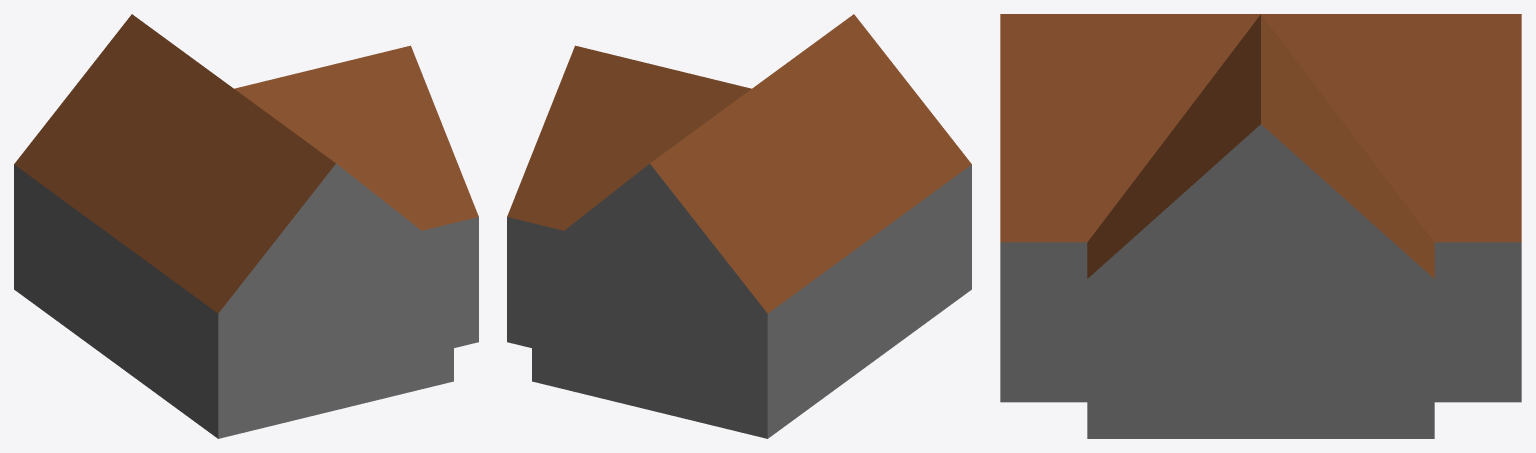
The model's file is House5.fbx.
3 views of the same model, side by side, from view 1: azimuth 30°, elevation 25°; view 2: azimuth 150°, elevation 25°; view 3: azimuth 270°, elevation 25° (orthographic). The views are drawn at different scales.
Parts seen in each view (by area): view 1: polySurface33; view 2: polySurface33; view 3: polySurface33.
Part boxes in pixels (x1,y1,x2,y2): polySurface33: (14, 14, 478, 438); polySurface33: (507, 14, 971, 438); polySurface33: (1000, 14, 1521, 438).
Bounding box in the file's own units: 2.15 × 1.72 × 2.58.
